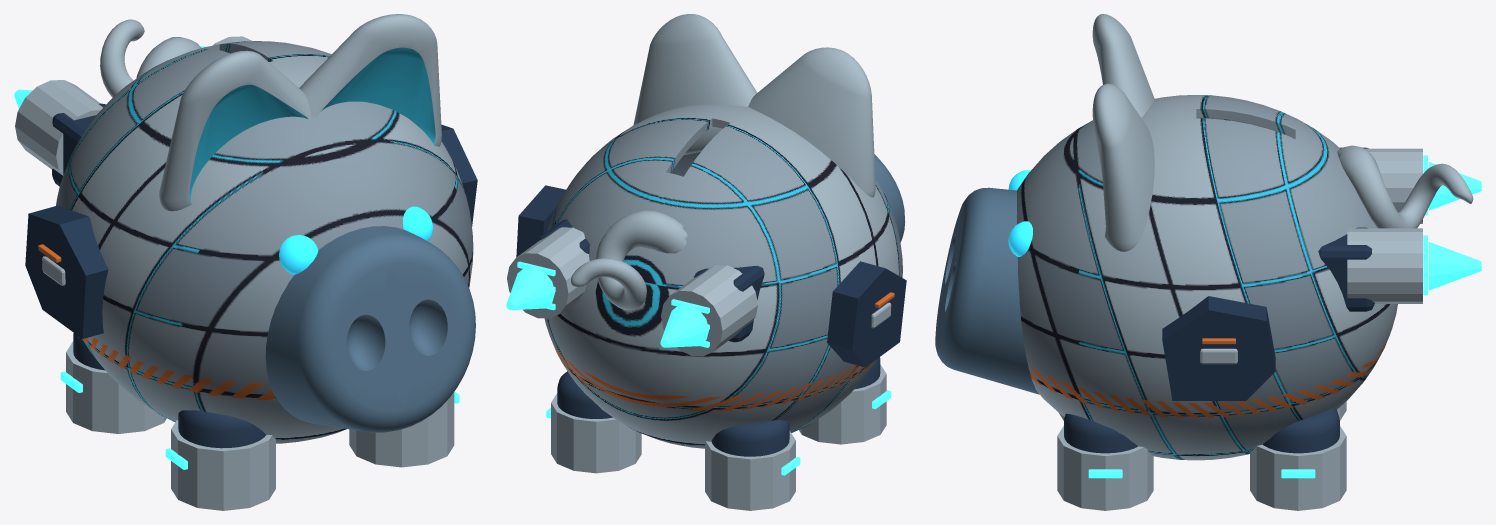
Rendered from mechaplayer-arcade-v1-complete.fbx.
3 renders of one model, left to right at view 1: azimuth 30°, elevation 25°; view 2: azimuth 150°, elevation 25°; view 3: azimuth 270°, elevation 25°, orthographic. The views are drawn at different scales.
Parts seen in each view (by area): view 1: Body, Snout, Ears, MechGuard_-1, MechBoot_-1_0, MechBoot_-1_1, ThrusterHousing_-1, MechBoot_1_0, Legs, Tail, EyePreview, MechGuard_1 (+1 smaller); view 2: Body, Ears, MechGuard_-1, Tail, MechBoot_-1_1, MechBoot_1_1, ThrusterHousing_-1, Legs, ThrusterHousing_1, MechBoot_-1_0, MechGuard_1, ThrusterPlume_-1 (+3 smaller); view 3: Body, Snout, Ears, MechGuard_1, MechBoot_1_1, MechBoot_1_0, ThrusterHousing_1, Tail, Legs, ThrusterHousing_-1, ThrusterBracket_1, ThrusterPlume_1 (+3 smaller).
Boxes of the visible parts, left/top/right/bottom form: Body: left=56, top=41, right=473, bottom=443; Snout: left=265, top=226, right=475, bottom=432; Ears: left=159, top=14, right=441, bottom=211; MechGuard_-1: left=25, top=205, right=108, bottom=338; MechBoot_-1_0: left=171, top=420, right=275, bottom=510; MechBoot_-1_1: left=66, top=341, right=166, bottom=433; ThrusterHousing_-1: left=15, top=80, right=102, bottom=175; MechBoot_1_0: left=349, top=392, right=454, bottom=467; Legs: left=73, top=333, right=265, bottom=448; Tail: left=100, top=19, right=201, bottom=97; EyePreview: left=279, top=206, right=432, bottom=274; MechGuard_1: left=441, top=124, right=477, bottom=226; Body: left=544, top=104, right=902, bottom=448; Ears: left=633, top=14, right=875, bottom=197; MechGuard_-1: left=827, top=261, right=906, bottom=367; Tail: left=571, top=210, right=687, bottom=310; MechBoot_-1_1: left=705, top=431, right=795, bottom=510; MechBoot_1_1: left=551, top=393, right=641, bottom=473; ThrusterHousing_-1: left=661, top=265, right=757, bottom=356; Legs: left=557, top=357, right=880, bottom=456; ThrusterHousing_1: left=507, top=227, right=589, bottom=318; MechBoot_-1_0: left=799, top=364, right=886, bottom=444; MechGuard_1: left=516, top=185, right=565, bottom=257; ThrusterPlume_-1: left=660, top=304, right=708, bottom=347; Body: left=1016, top=95, right=1397, bottom=460; Snout: left=935, top=187, right=1039, bottom=394; Ears: left=1092, top=14, right=1154, bottom=251; MechGuard_1: left=1162, top=296, right=1275, bottom=400; MechBoot_1_1: left=1250, top=426, right=1346, bottom=510; MechBoot_1_0: left=1057, top=426, right=1153, bottom=510; ThrusterHousing_1: left=1347, top=228, right=1422, bottom=303; Tail: left=1337, top=145, right=1473, bottom=228; Legs: left=1064, top=408, right=1339, bottom=453; ThrusterHousing_-1: left=1364, top=148, right=1422, bottom=223; ThrusterBracket_1: left=1318, top=227, right=1374, bottom=311; ThrusterPlume_1: left=1428, top=242, right=1481, bottom=290.
Size of the model in its own units: 1373 by 1397 by 1734.
Materials: 7 (2 with a texture image).
